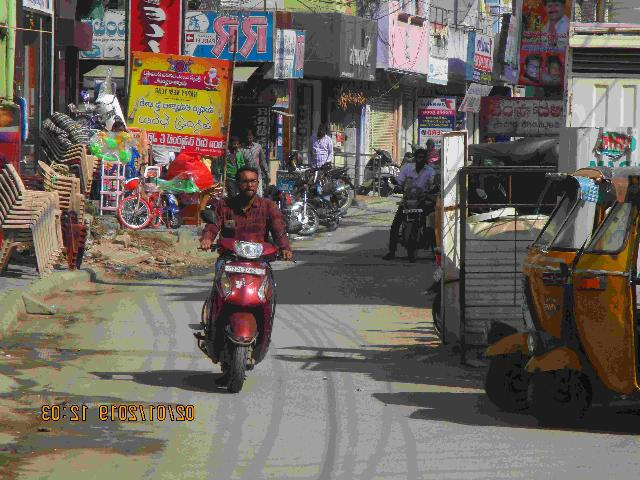motor: (193, 210, 305, 396), (392, 179, 441, 264)
non-helm: (236, 167, 261, 200), (415, 150, 430, 169)
